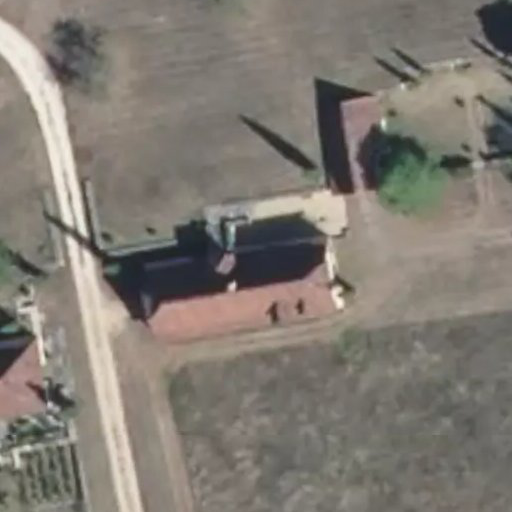pool: (179, 231, 332, 256)
